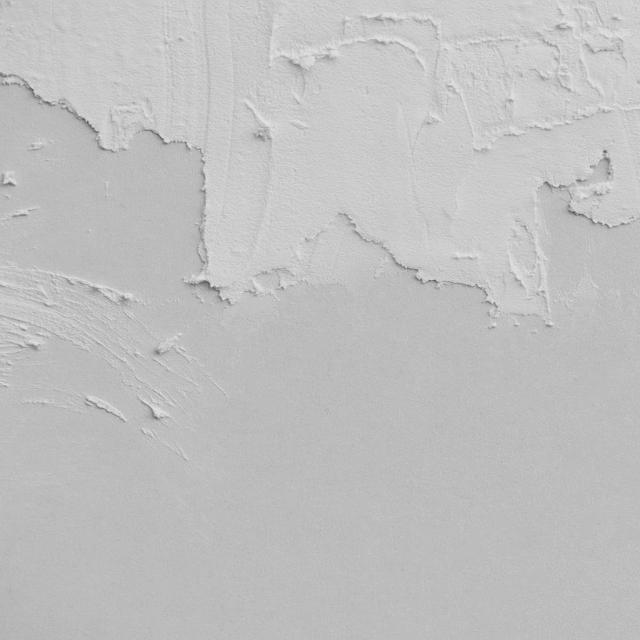trowels marks: (0, 0, 640, 458)
